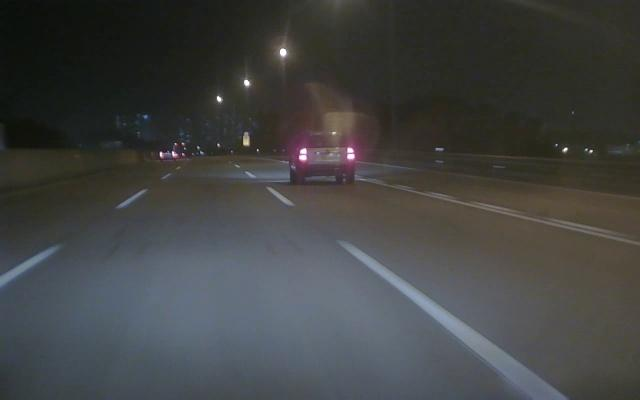lane: (270, 189, 570, 399), (371, 178, 640, 247), (1, 196, 138, 288)
